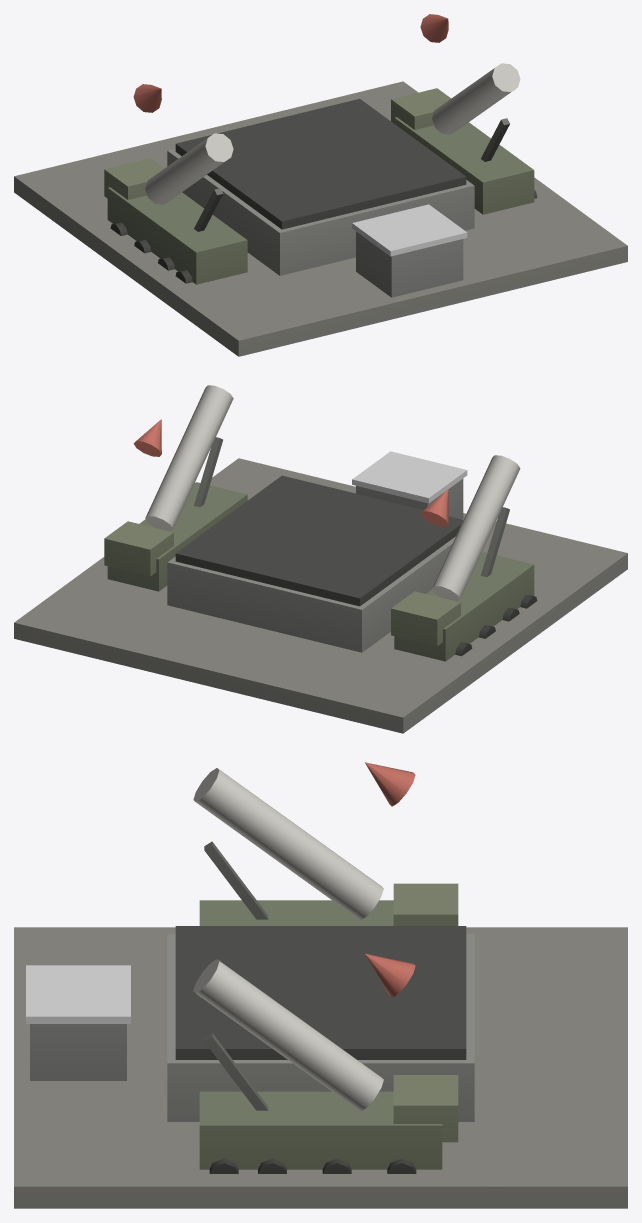
The model's file is m_uplink_459bda2a.glb.
3 renders of one model, top to bottom at view 1: azimuth 30°, elevation 25°; view 2: azimuth 150°, elevation 25°; view 3: azimuth 270°, elevation 25°, orthographic. The views are drawn at different scales.
Parts seen in each view (by area): view 1: mesh; view 2: mesh; view 3: mesh.
Part boxes in pixels (left/top/right/bottom): mesh: left=14, top=14, right=627, bottom=356; mesh: left=14, top=385, right=627, bottom=733; mesh: left=14, top=762, right=627, bottom=1208.
Bounding box in the file's own units: 76 × 30.19 × 76.
